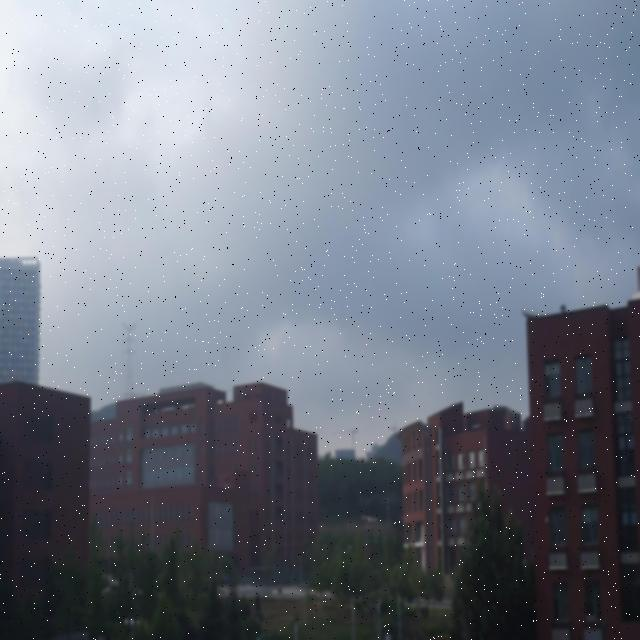UAV: (362, 515, 379, 527)
